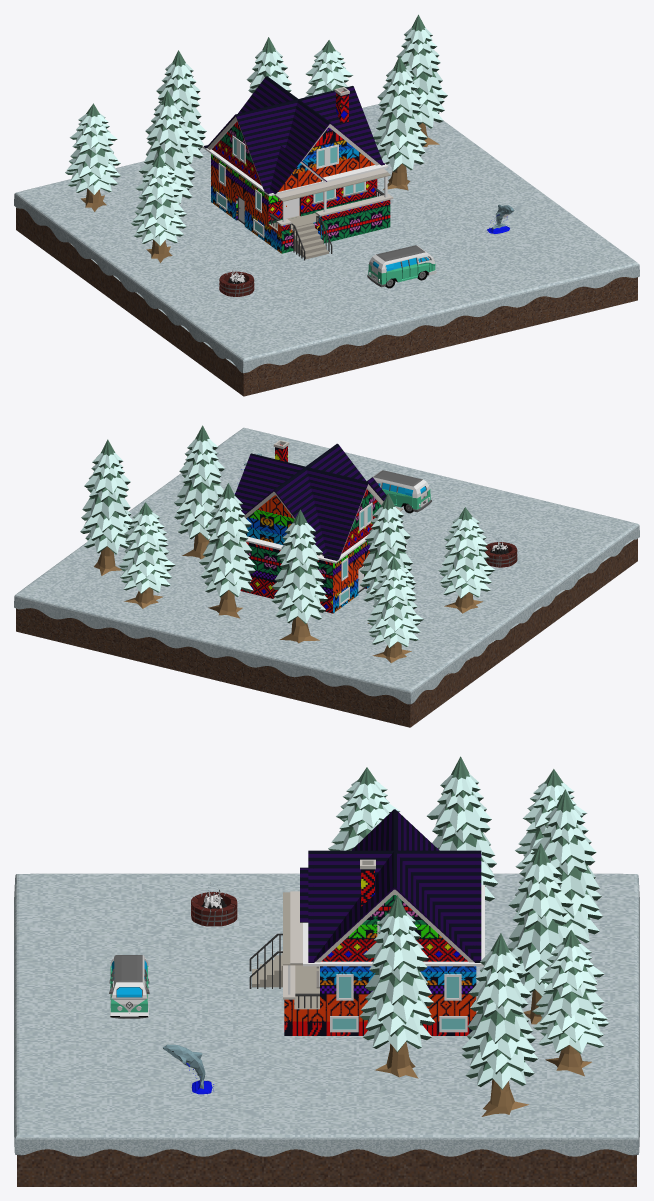
3 renders of one model, top to bottom at view 1: azimuth 30°, elevation 25°; view 2: azimuth 150°, elevation 25°; view 3: azimuth 270°, elevation 25°, orthographic. The views are drawn at different scales.
Parts seen in each view (by area): view 1: Cube.003, Cube.966, VEHICLES_VAN, OBJRANDOM_CAMPFIRE; view 2: Cube.003, Cube.966, VEHICLES_VAN, OBJRANDOM_CAMPFIRE; view 3: Cube.003, Cube.966, VEHICLES_VAN, OBJRANDOM_CAMPFIRE, ANIMAL_DELFIN.
Part boxes in pixels (x1=…): Cube.003: x1=14, y1=14, x2=639, y2=396; Cube.966: x1=202, y1=76, x2=393, y2=260; VEHICLES_VAN: x1=367, y1=245, x2=436, y2=288; OBJRANDOM_CAMPFIRE: x1=219, y1=270, x2=254, y2=296; Cube.003: x1=14, y1=425, x2=639, y2=727; Cube.966: x1=235, y1=440, x2=405, y2=613; VEHICLES_VAN: x1=372, y1=470, x2=431, y2=513; OBJRANDOM_CAMPFIRE: x1=485, y1=541, x2=517, y2=567; Cube.003: x1=14, y1=756, x2=639, y2=1186; Cube.966: x1=249, y1=809, x2=484, y2=1035; VEHICLES_VAN: x1=109, y1=955, x2=149, y2=1018; OBJRANDOM_CAMPFIRE: x1=191, y1=889, x2=237, y2=926; ANIMAL_DELFIN: x1=163, y1=1044, x2=214, y2=1094.
Size of the model in its own units: 4040 by 1844 by 4040.
38 materials, 7 textured.
